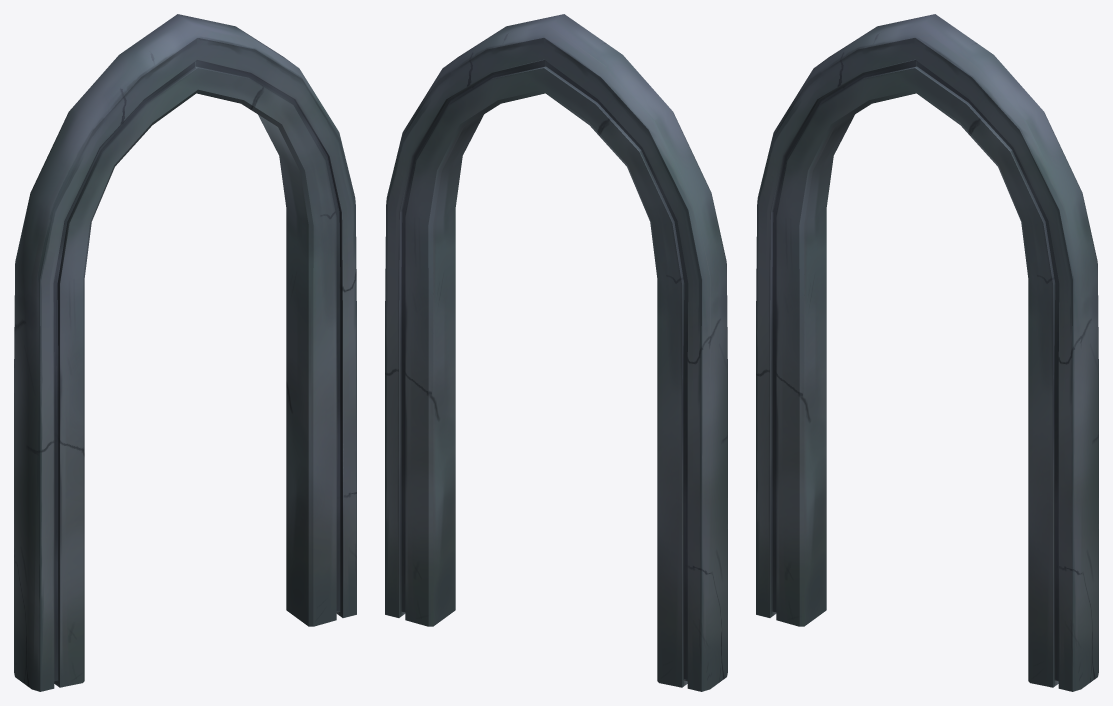
The model's file is arch-tall.fbx.
3 renders of one model, left to right at view 1: azimuth 30°, elevation 25°; view 2: azimuth 150°, elevation 25°; view 3: azimuth 330°, elevation 25°, orthographic.
Parts seen in each view (by area): view 1: arch-tall; view 2: arch-tall; view 3: arch-tall.
Part boxes in pixels (box(x1,y1,x2,y2)): arch-tall: box(14, 14, 356, 691); arch-tall: box(385, 14, 727, 691); arch-tall: box(756, 14, 1098, 691).
Bounding box in the file's own units: 638 × 1178 × 89.56.
